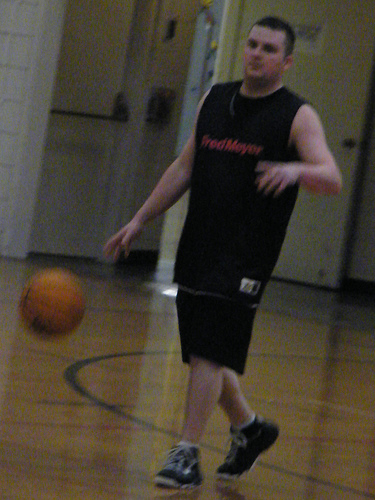basketball: (19, 268, 83, 337)
